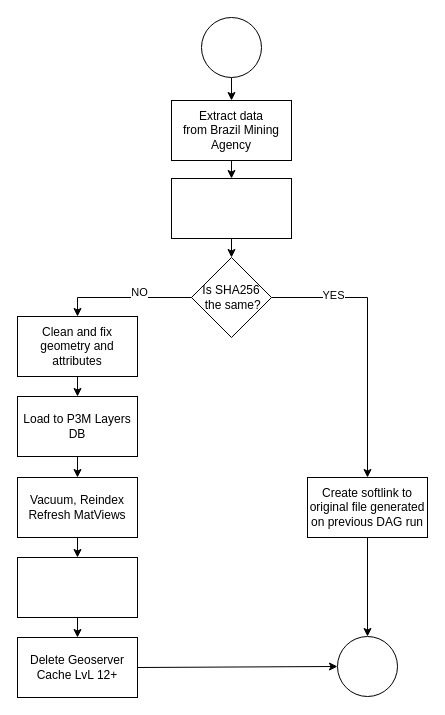
Some shapes in this 445 by 715 pixel diagram are drawn without their labels. The shapes that lost their labels are listed below. From the top down, each one's centre as x and y in pixels, then its label:
(x=231, y=47): Start
(x=231, y=208): Export on original file format and get SHA256 from content
(x=77, y=587): Reseed Geoserver Cache LvL 0 to 11
(x=367, y=666): End
